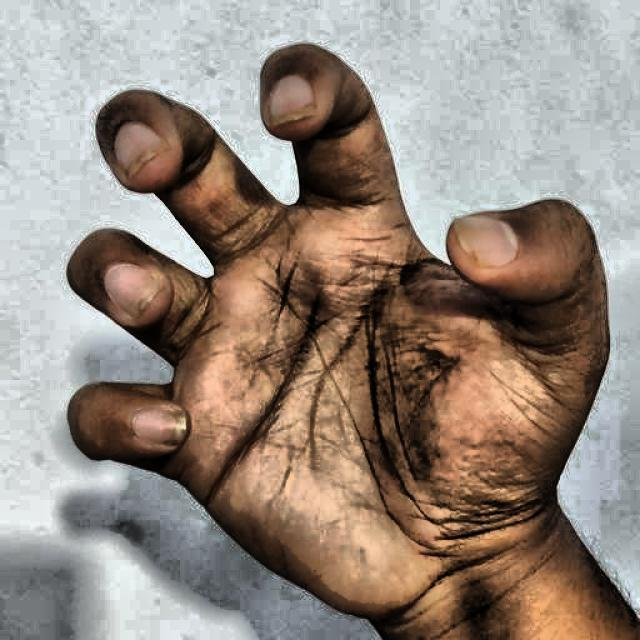Ja: (42, 24, 621, 632)
